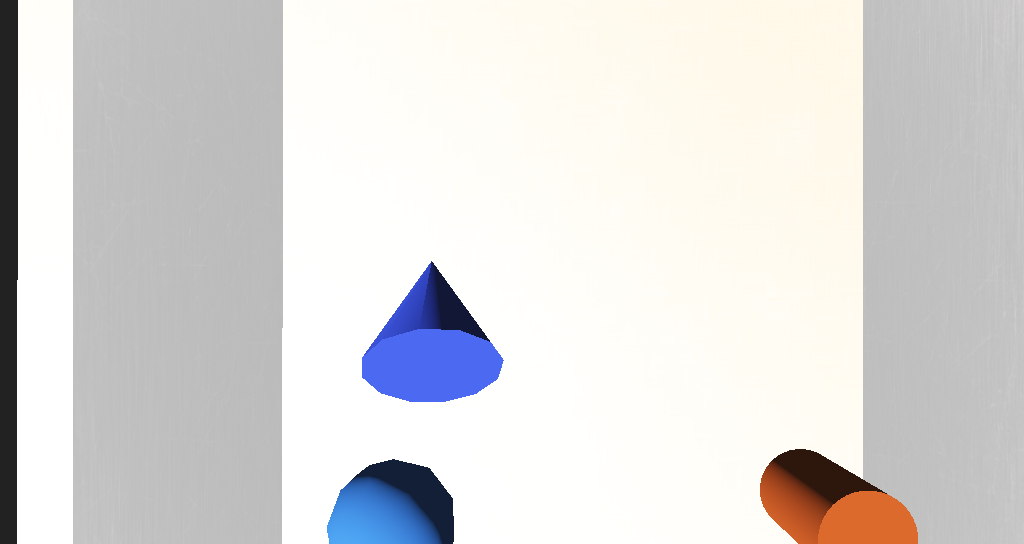cone: (603, 334, 664, 372)
cylinder: (391, 248, 472, 315)
sphere: (387, 336, 448, 379)
